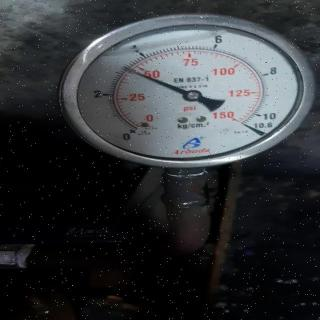gauge: (43, 8, 319, 170), (229, 111, 259, 137), (122, 120, 146, 140), (184, 89, 201, 102), (120, 62, 132, 72)
